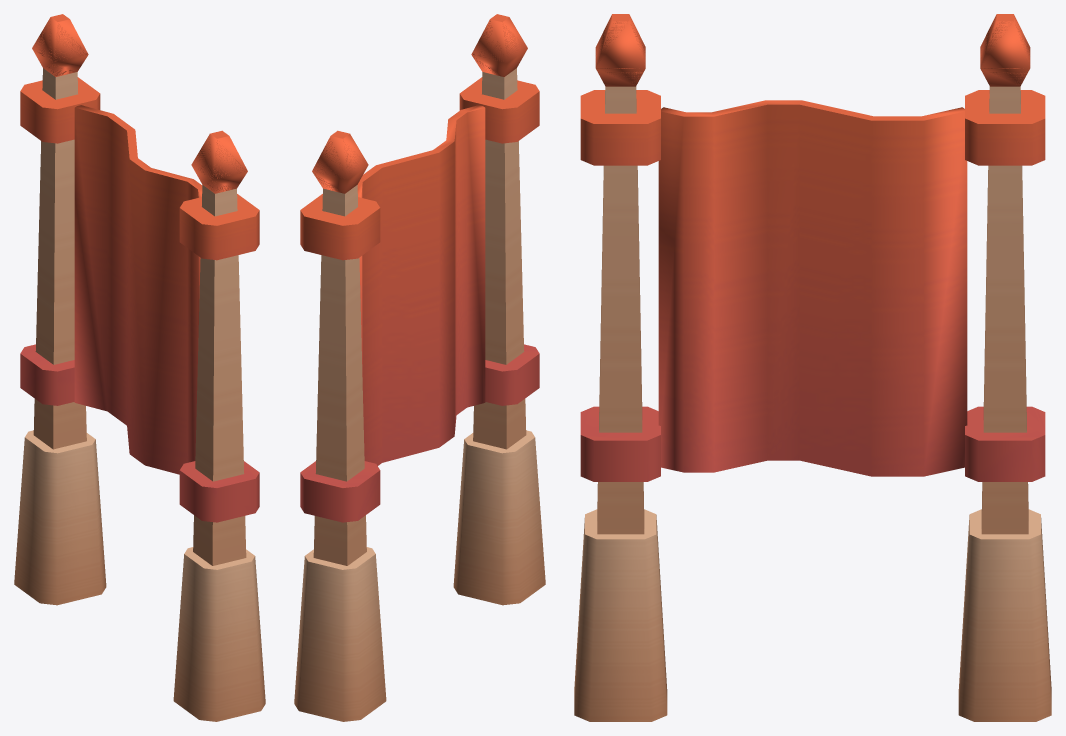
The model's file is flag-wide.fbx.
3 renders of one model, left to right at view 1: azimuth 30°, elevation 25°; view 2: azimuth 150°, elevation 25°; view 3: azimuth 270°, elevation 25°, orthographic. The views are drawn at different scales.
Parts seen in each view (by area): view 1: flag-wide; view 2: flag-wide; view 3: flag-wide.
Part boxes in pixels (box(x1,y1,x2,y2)): flag-wide: box(14, 14, 265, 721); flag-wide: box(294, 14, 545, 721); flag-wide: box(574, 14, 1051, 721).
Size of the model in its own units: 0.1064 by 0.5469 by 0.8656.
